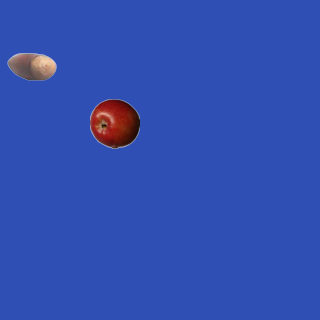Apple Braeburn: (89, 98, 139, 148)
Hazelnut: (6, 41, 56, 91)
